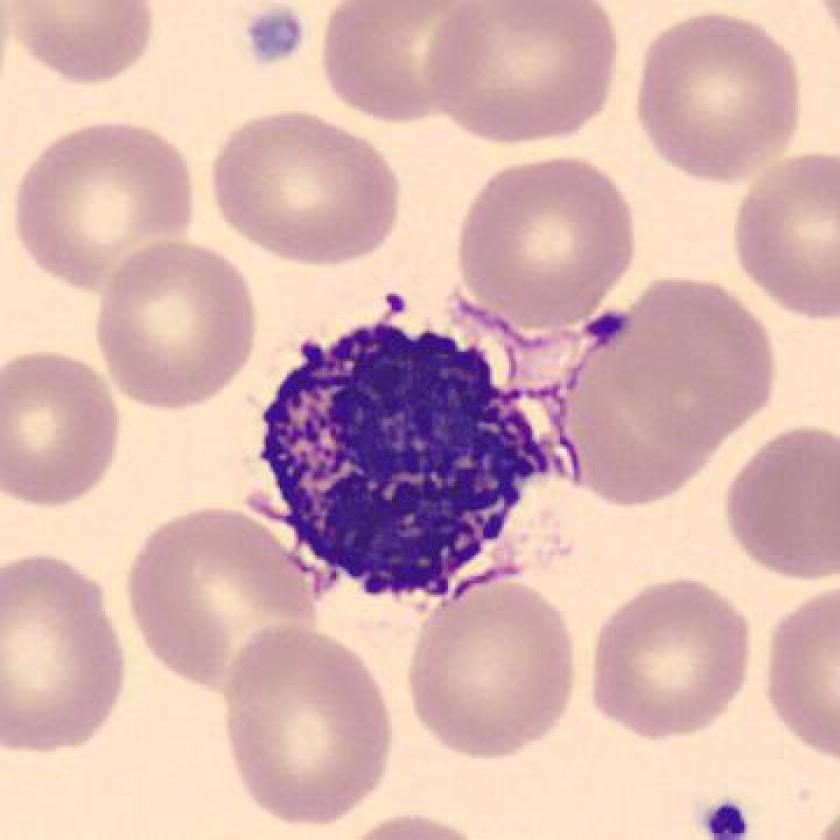basophil: (255, 300, 547, 601)
